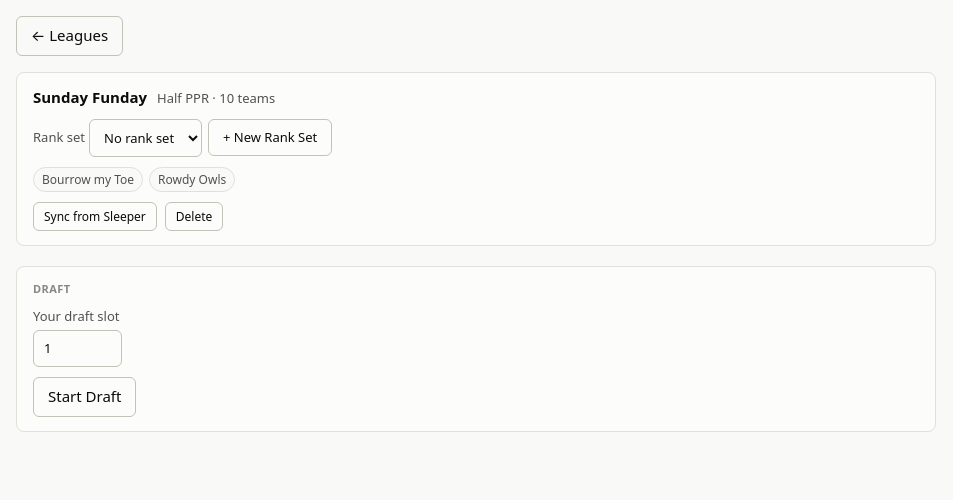
Test case: LeagueDetailPage › rejects a draft slot beyond the league’s team count
Replace the text in the number field labelled "Your draft slot" with "99" at (78, 348), box 33,330 -> 122,367
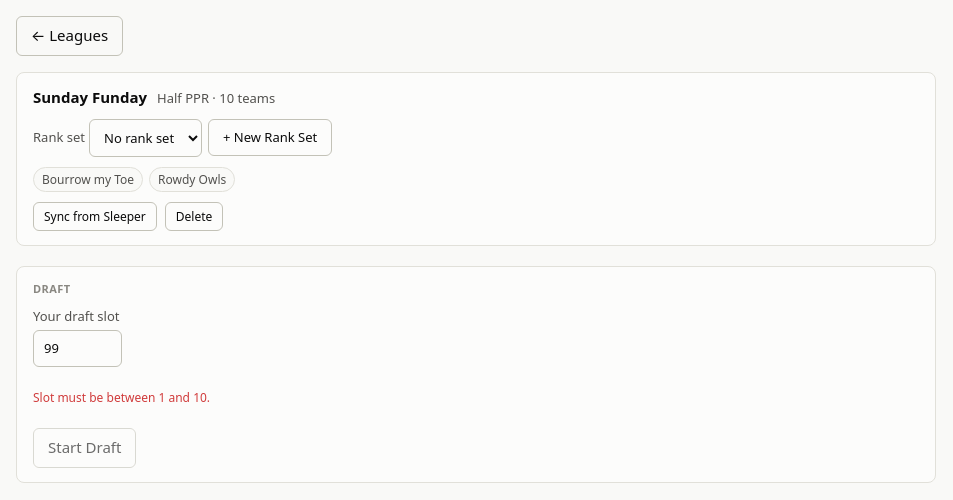
Expected: the text "Slot must be between 1 and 10." is shown, 33,389 -> 210,406
Expected: the button "Start Draft" is disabled, 33,428 -> 136,468
